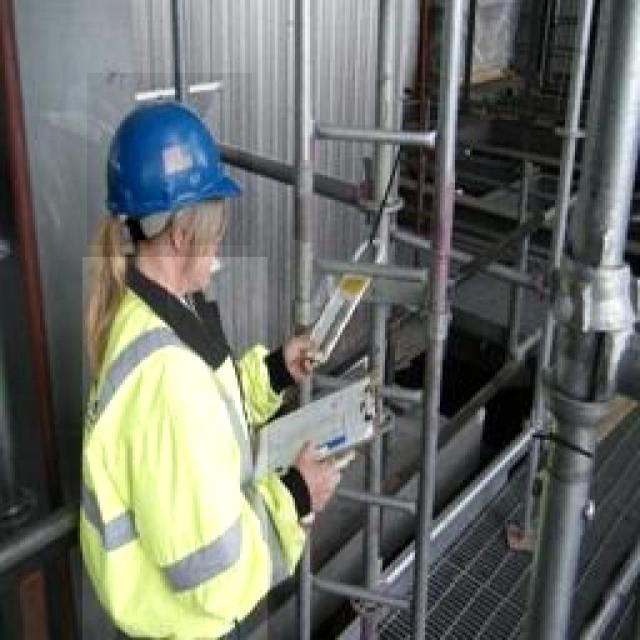Helmet: (82, 257, 268, 640), (87, 73, 252, 245)
